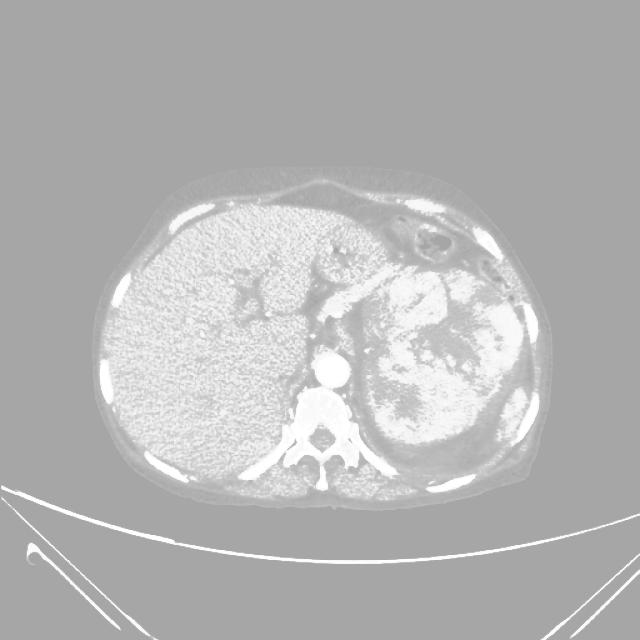TUMOR: (350, 272, 569, 482)
